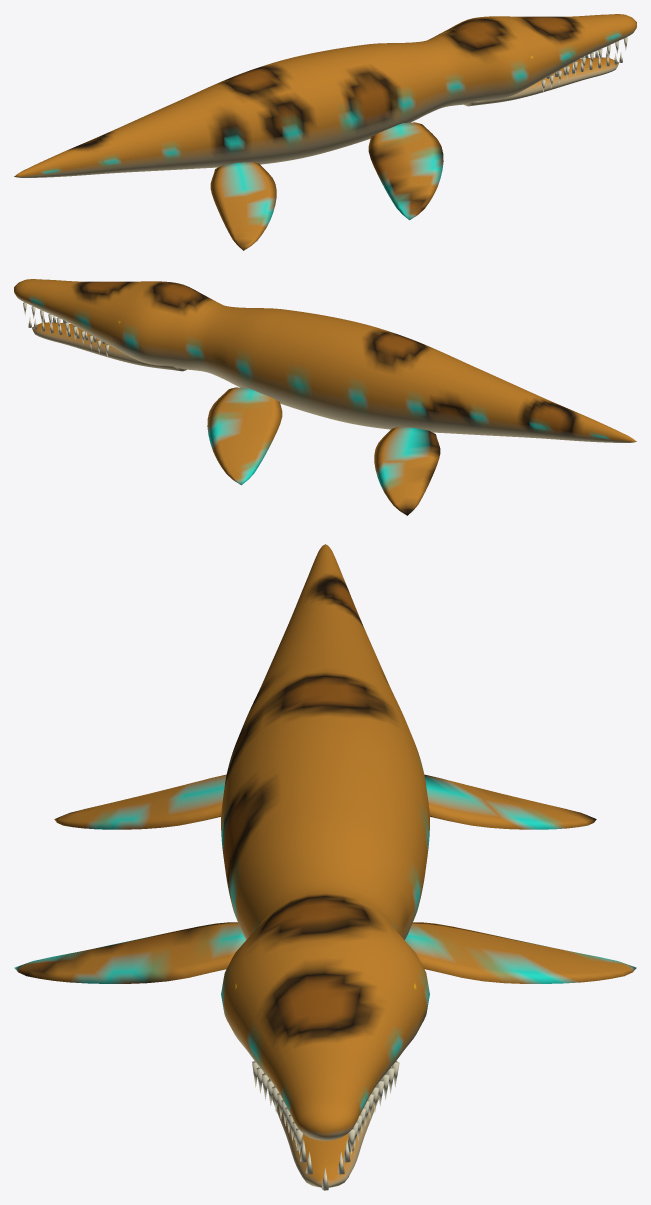
The model's file is kronos_jaguar.fbx.
The picture shows the model from 3 angles, top to bottom: view 1: azimuth 30°, elevation 25°; view 2: azimuth 150°, elevation 25°; view 3: azimuth 270°, elevation 25°; orthographic projection. The views are drawn at different scales.
Parts seen in each view (by area): view 1: kronos_jaguar; view 2: kronos_jaguar; view 3: kronos_jaguar.
Boxes of the visible parts, x1,y1,x2,y2 form: kronos_jaguar: (14, 14, 636, 250); kronos_jaguar: (14, 279, 636, 515); kronos_jaguar: (14, 544, 636, 1190).
Size of the model in its own units: 700 by 310 by 115.
